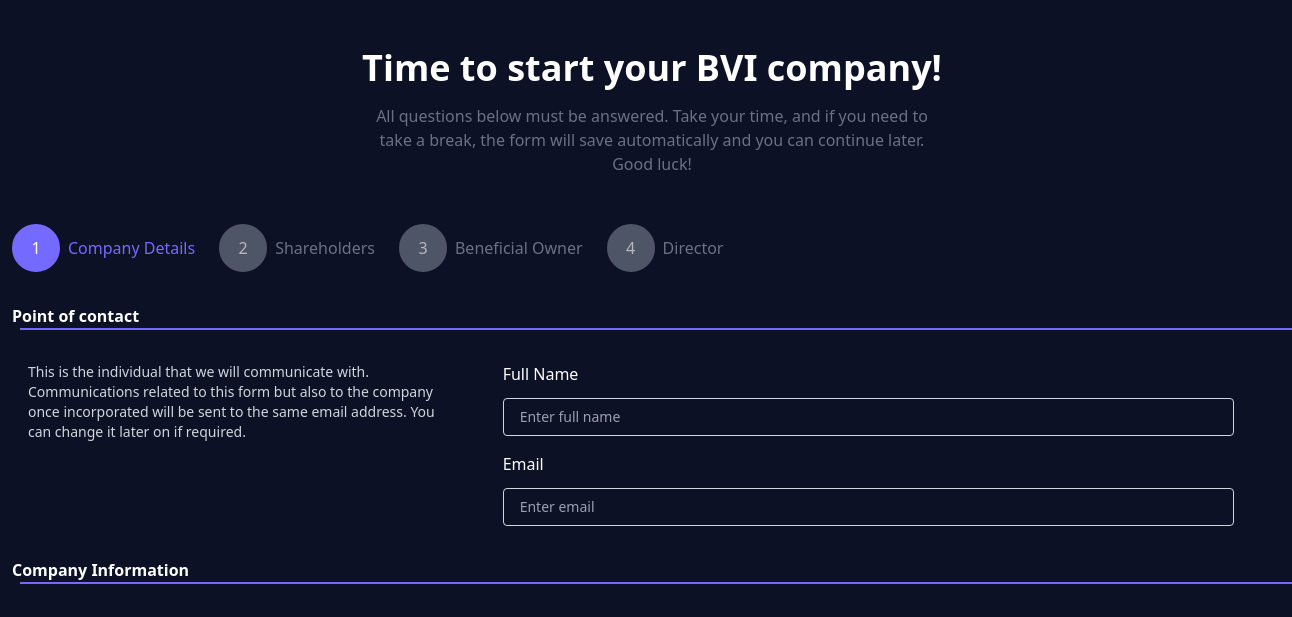
Test: Testing Home View › testing email special keyword validation
This screenshot has width=1292, height=617.
Step 1. Type "korporatio@email.com" into the field with test id "email" → (868, 507), box [503,488,1234,526]
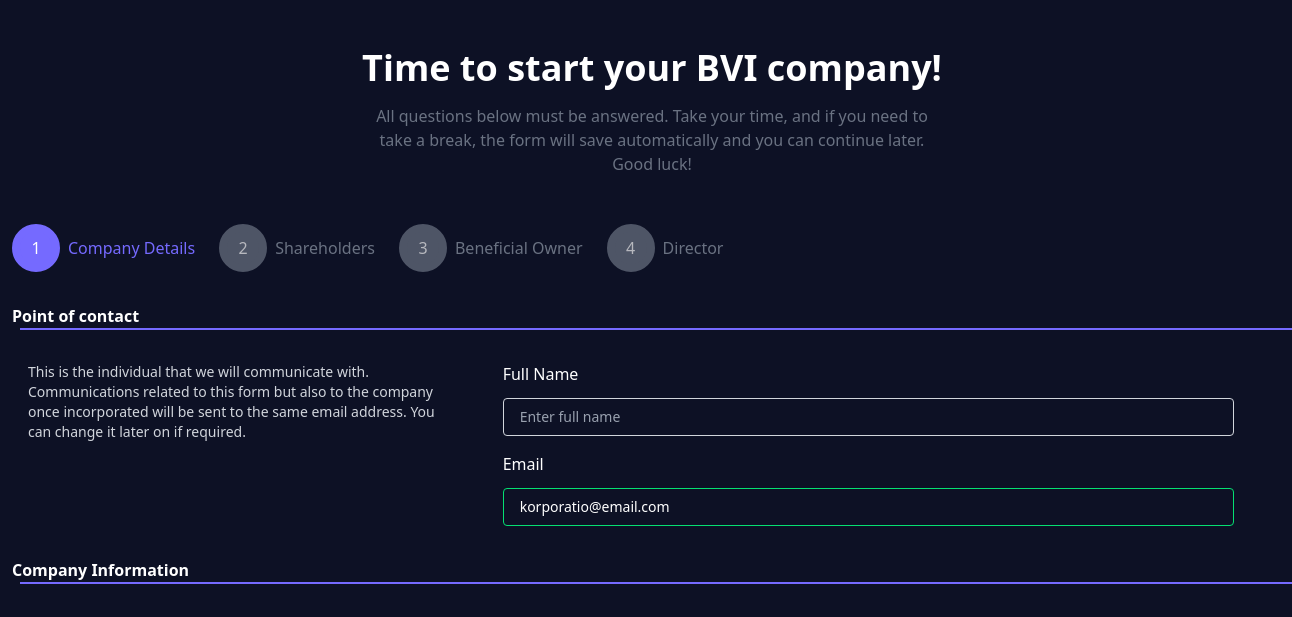
Step 2. Leave the field with test id "email", box [503,488,1234,526]
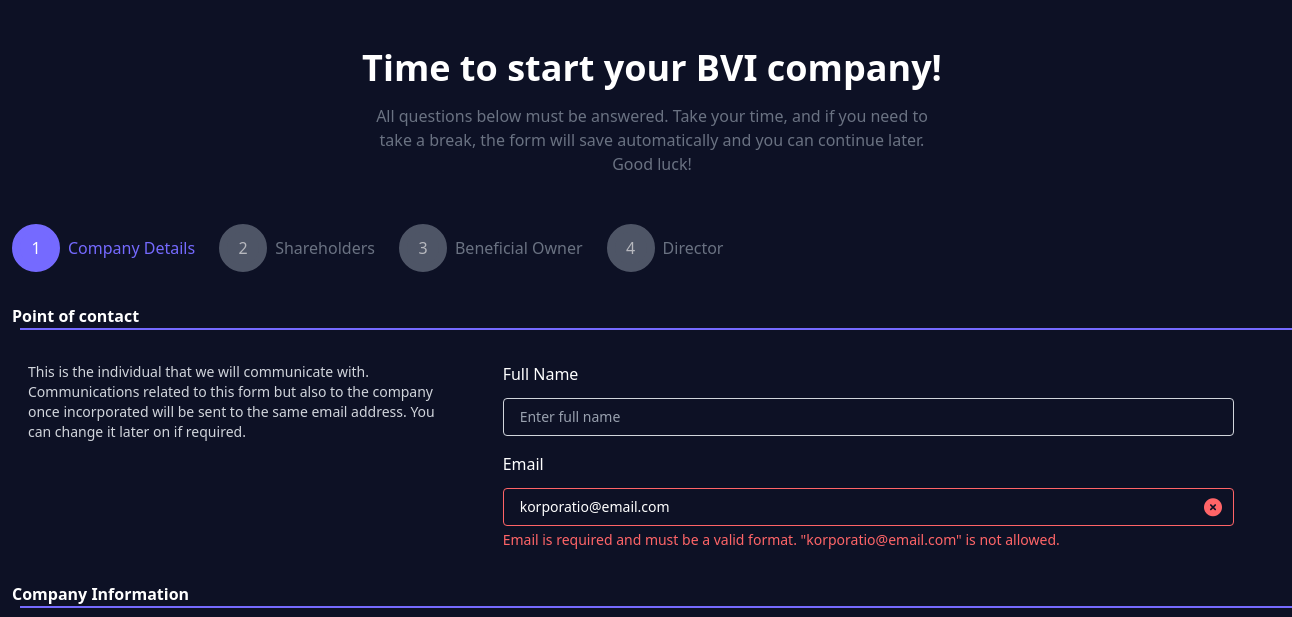
Expected: the text "Email is required and must be a valid format. \"korporatio@email.com\" is not allowed." is shown, [503,530,1060,549]
